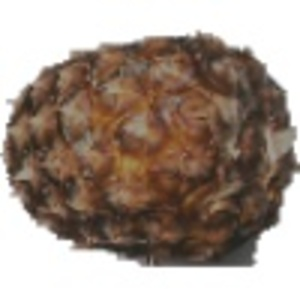abacaxi: (5, 30, 297, 253)
